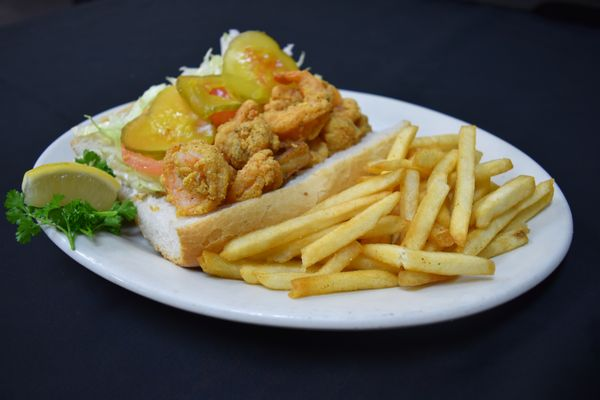curry: (7, 5, 597, 389)
